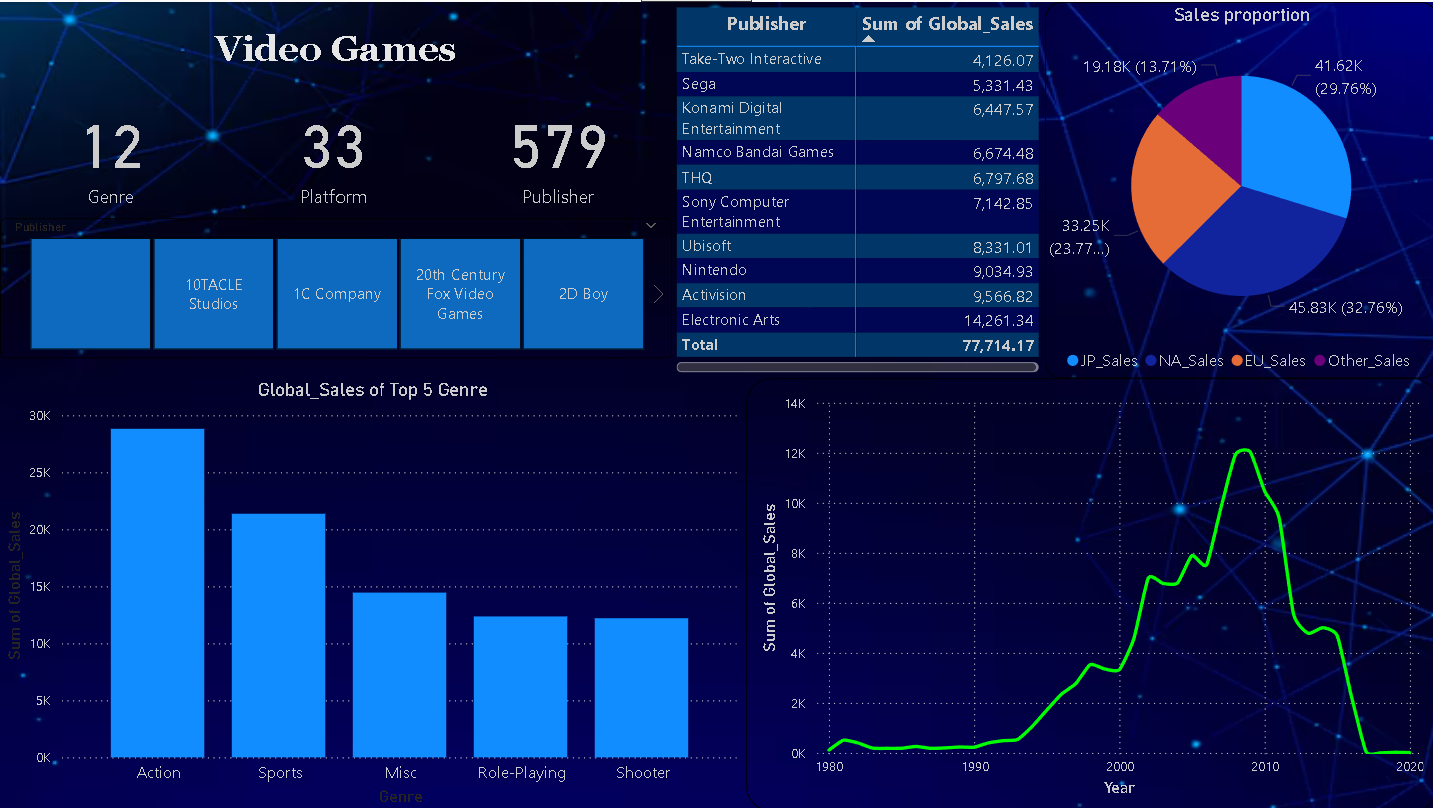

What the dashboard file says about the page in this screenshot:
{"tool":"powerbi","page":{"name":"Page 1","canvas":[1280,720],"ordinal":0},"visuals":[{"type":"lineChart","fields":{"Category":["video_games.Year"],"Y":["Sum(video_games.Global_Sales)"]},"box":[664.2,334.8,616.1,385.6],"z":0},{"type":"pieChart","title":"Sales proportion","fields":{"Y":["Sum(video_games.JP_Sales)","Sum(video_games.NA_Sales)","Sum(video_games.EU_Sales)","Sum(video_games.Other_Sales)"]},"box":[930.4,0,349.9,334.8],"z":1000},{"type":"columnChart","title":"Global_Sales of Top 5 Genre","fields":{"Category":["video_games.Genre"],"Y":["Sum(video_games.Global_Sales)"]},"box":[0,334.8,664.2,385.6],"z":2000},{"type":"card","fields":{"Values":["Count(video_games.Genre)"]},"box":[0,74.1,199,118],"z":3000},{"type":"card","fields":{"Values":["Count(video_games.Platform)"]},"box":[199,74.1,197.6,118],"z":4000},{"type":"card","fields":{"Values":["Count(video_games.Publisher)"]},"box":[396.6,74.1,201.7,118],"z":5000},{"type":"slicer","fields":{"Values":["video_games.Publisher"]},"box":[0,192.1,598.3,124.9],"z":6000},{"type":"textbox","box":[0,0,598.3,74.1],"z":7000},{"type":"pivotTable","title":"             ","fields":{"Rows":["video_games.Publisher"],"Values":["Sum(video_games.Global_Sales)"]},"box":[598.3,0,332.1,334.8],"z":8000}]}

Visuals, with their boxes in screenshot pixels (x1, y1, x2, y2), scaled from the page's 1280x720 canvas onto the 1433x808 screenshot:
lineChart - video_games.Year x Sum(video_games.Global_Sales): (744,376,1432,807)
"Sales proportion" pieChart: (1042,0,1432,376)
"Global_Sales of Top 5 Genre" columnChart: (0,376,744,807)
card - Count(video_games.Genre): (0,83,223,216)
card - Count(video_games.Platform): (223,83,444,216)
card - Count(video_games.Publisher): (444,83,670,216)
slicer - video_games.Publisher: (0,216,670,356)
textbox: (0,0,670,83)
"             " pivotTable: (670,0,1042,376)
